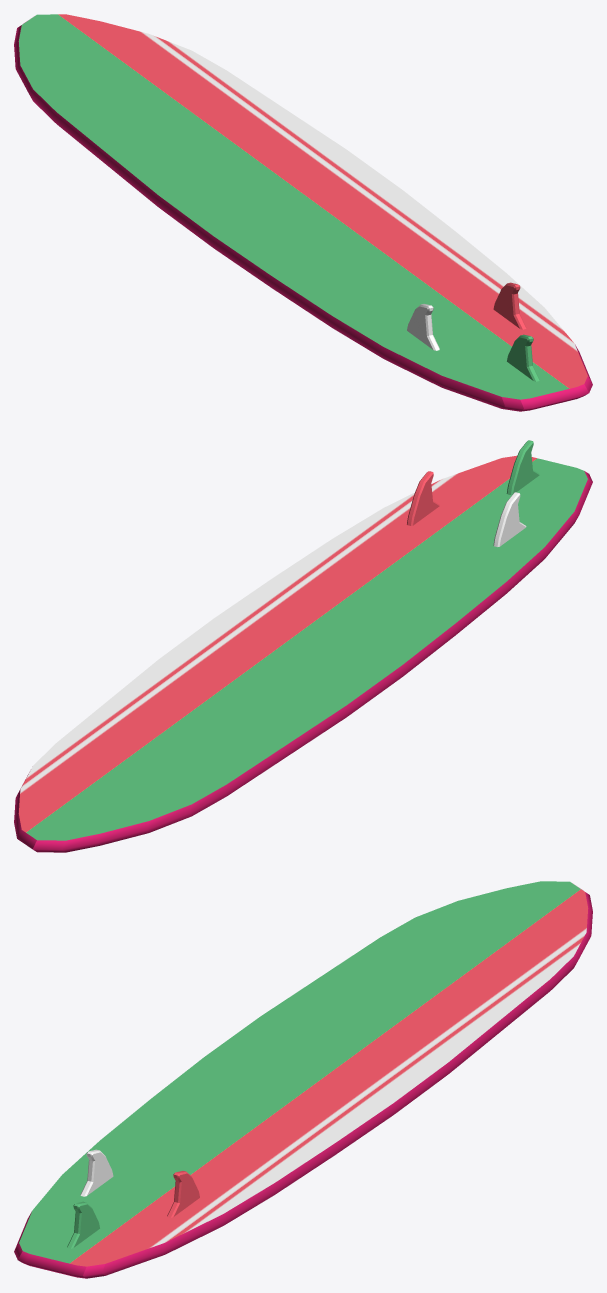
The model's file is surfboard-8.fbx.
3 renders of one model, top to bottom at view 1: azimuth 30°, elevation 25°; view 2: azimuth 150°, elevation 25°; view 3: azimuth 330°, elevation 25°, orthographic.
Visible parts, largest first — view 1: pCube14; view 2: pCube14; view 3: pCube14.
Part boxes in pixels (bbox=[...]): pCube14: bbox=[14, 14, 592, 411]; pCube14: bbox=[14, 440, 592, 852]; pCube14: bbox=[14, 881, 592, 1278].
Size of the model in its own units: 9.89 by 2.48 by 46.66.
Materials: 1 (1 with a texture image).
